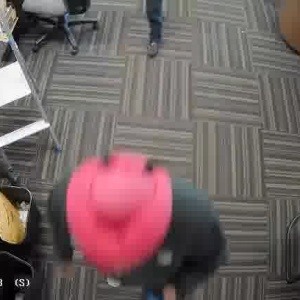person: (65, 165, 208, 293)
